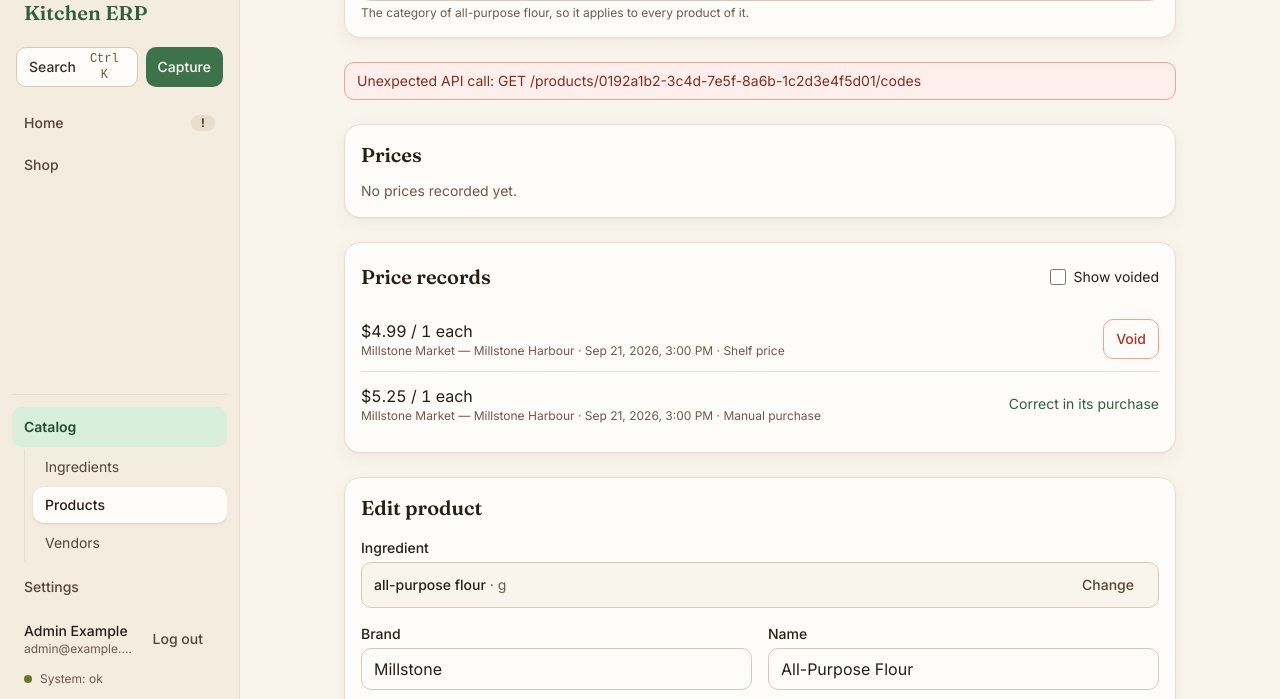
Scenario: price records on the product page › voids a shelf price with a reason and links a purchase price to its purchase
(page scrolled)
Expected: the number of list items with test id "price-record" is 2, [361,307,1159,372]; [361,386,1159,423]
Click the button with aria-label "Void the". click: (1131, 339)
box: [1103,319,1159,359]
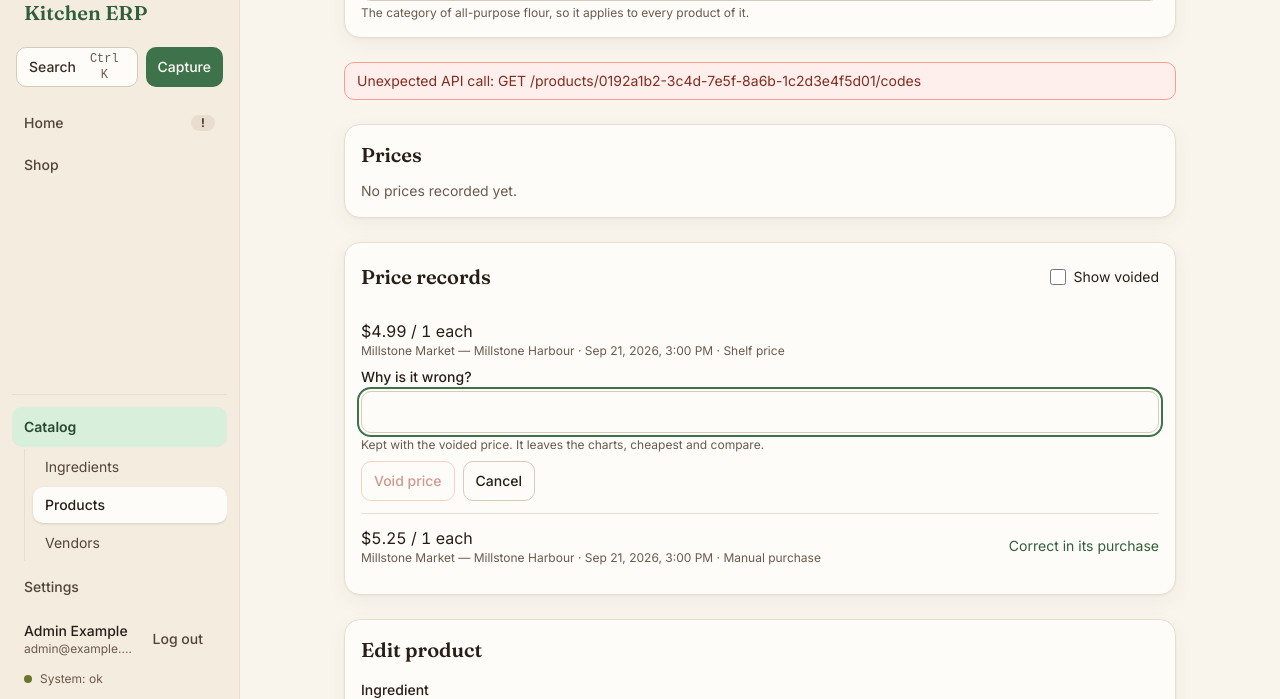
Expected: the button "Void price" is disabled, [361,461,455,501]
Type "wrong shelf" into the field labelled "Why is it wrong?". click: (760, 412)
box: [361,391,1159,433]
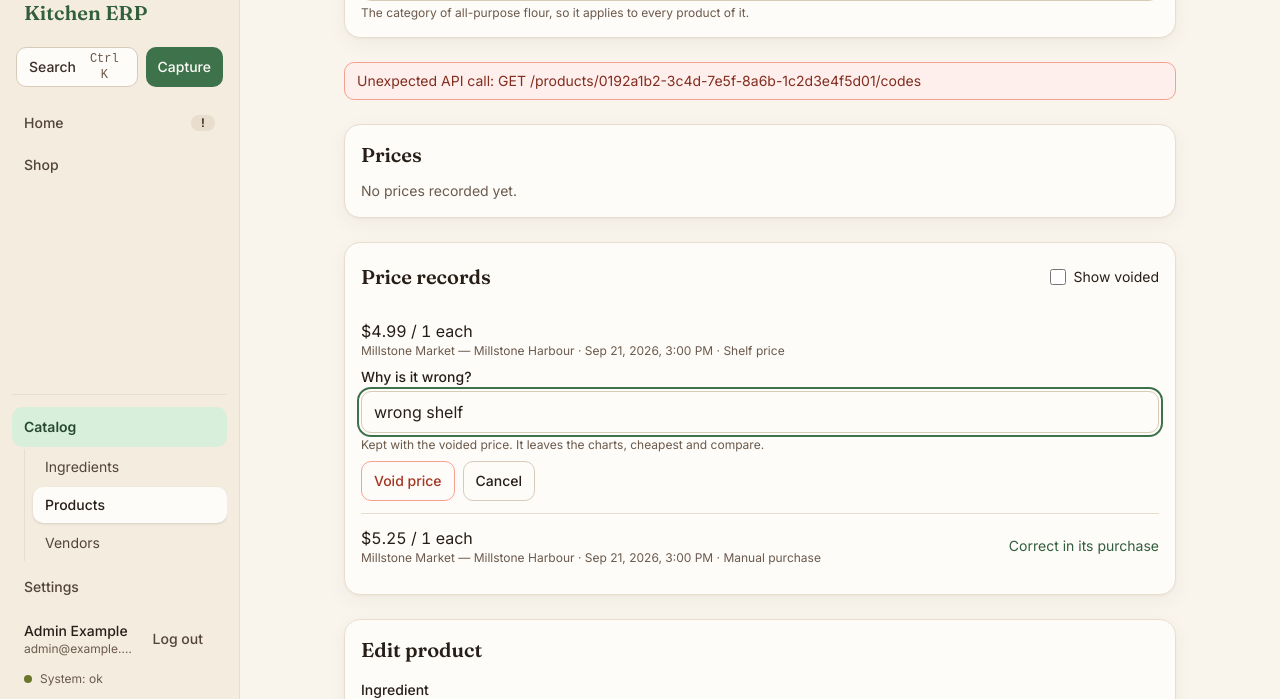
Click the button "Void price". click: (408, 481)
box: [361,461,455,501]
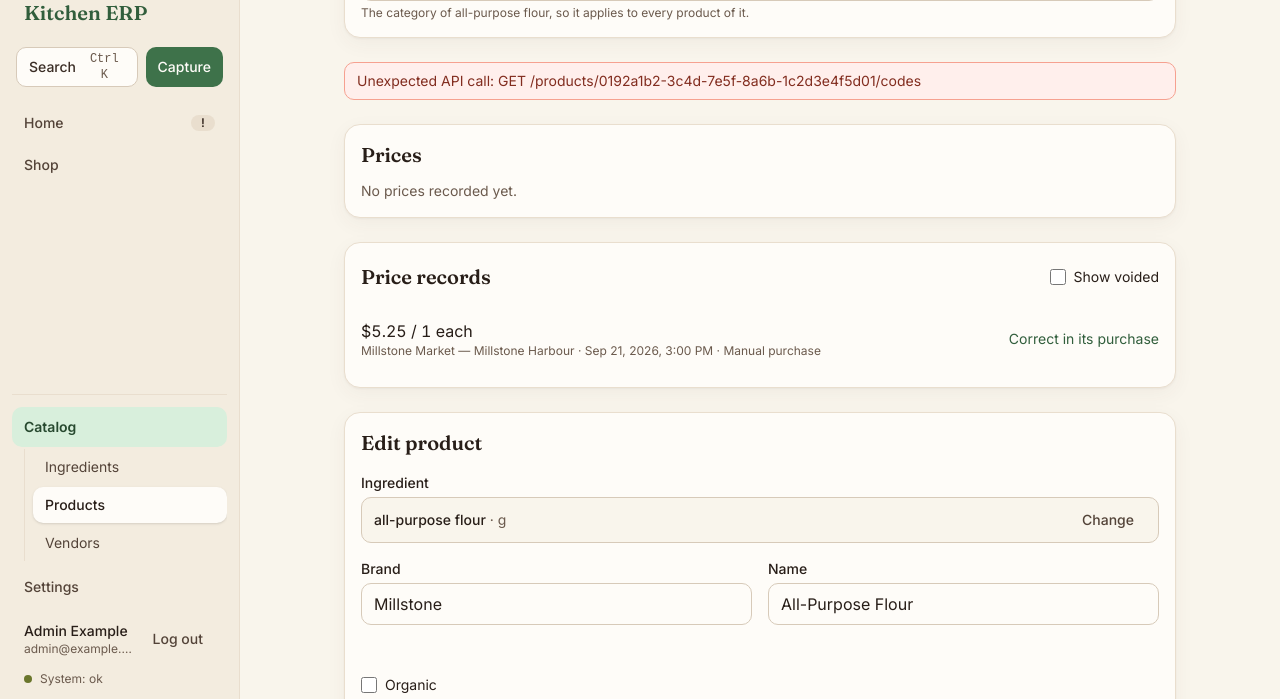
Expected: the number of list items with test id "price-record" is 1, [361,321,1159,358]
